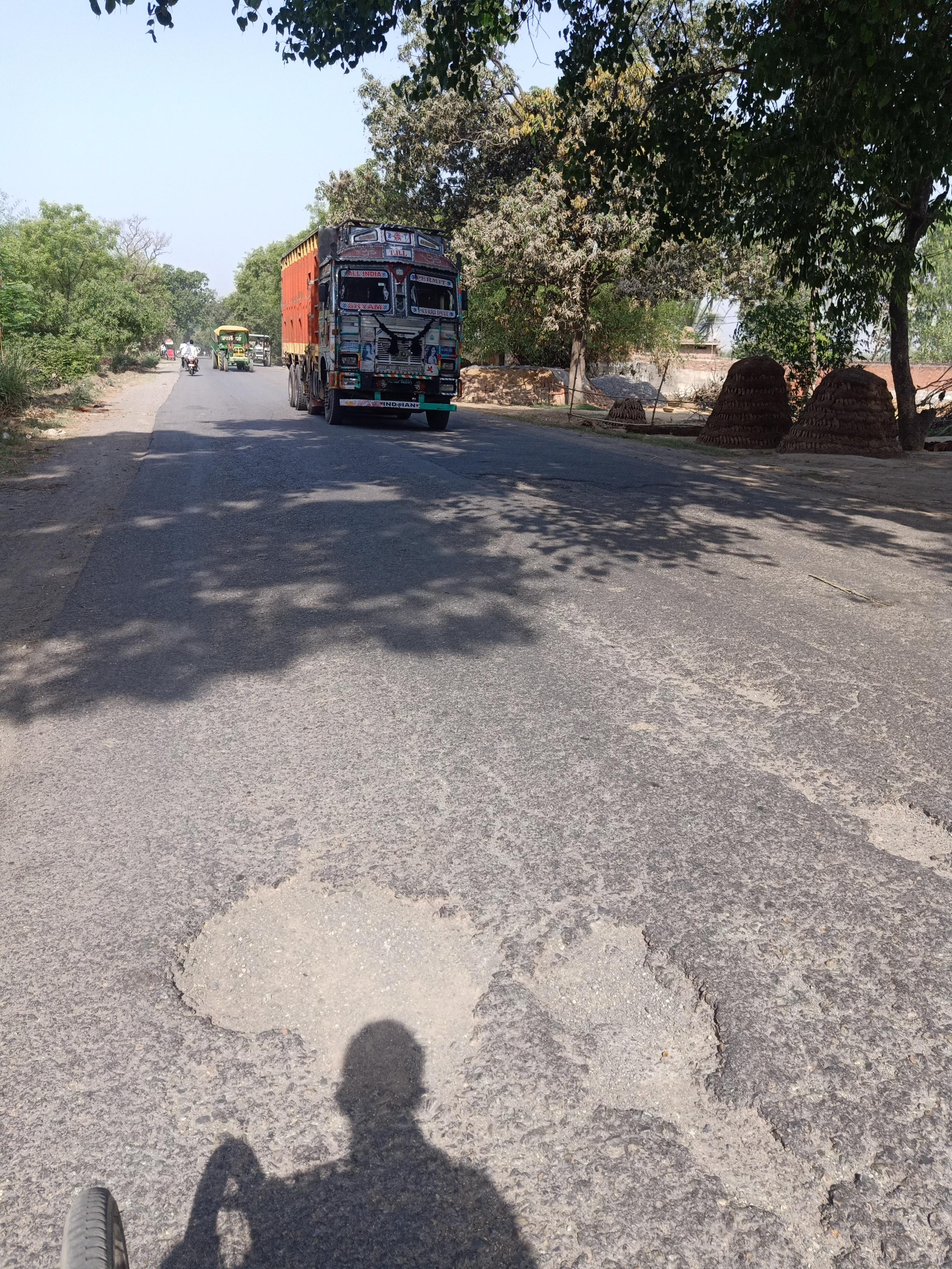non-ambulance: (192, 96, 587, 533)
